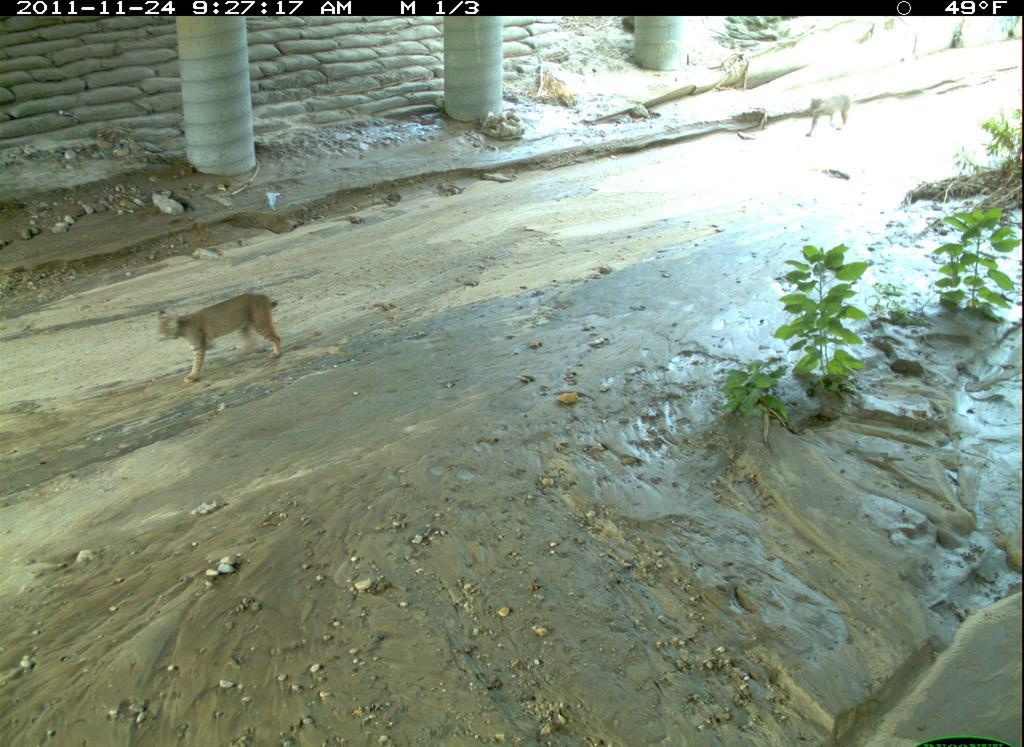bobcat: (153, 289, 296, 386), (798, 93, 859, 145)
